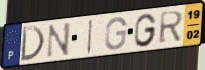D: (19, 25, 46, 63)
G: (103, 16, 128, 52), (133, 12, 158, 48)
I: (86, 18, 95, 55)
N: (45, 21, 72, 60)
R: (158, 10, 185, 46)
